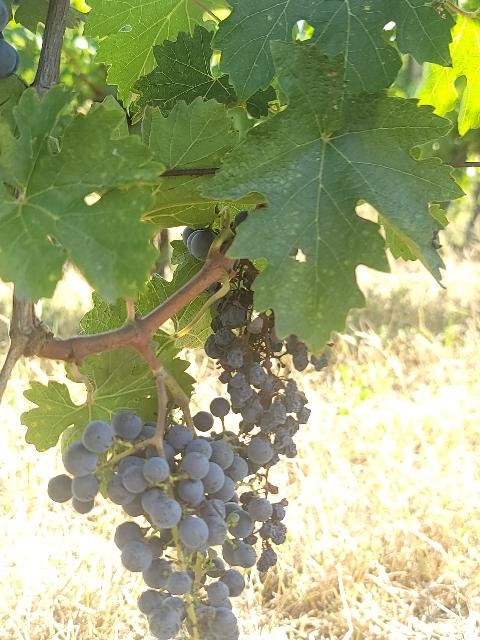grapes: (48, 410, 256, 640), (204, 260, 310, 482), (241, 495, 285, 570)
